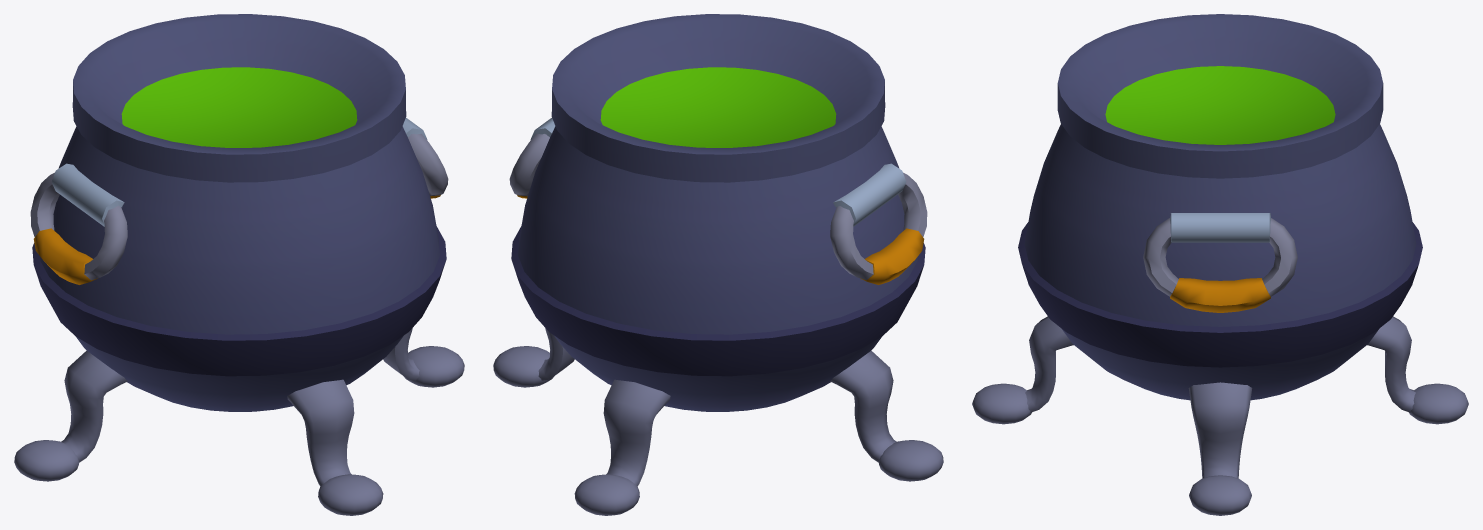
File: Cauldron_01.glb
The picture shows the model from 3 angles, left to right: view 1: azimuth 30°, elevation 25°; view 2: azimuth 150°, elevation 25°; view 3: azimuth 270°, elevation 25°; orthographic projection. The views are drawn at different scales.
Visible parts, largest first — view 1: Cauldron_01; view 2: Cauldron_01; view 3: Cauldron_01.
Boxes of the visible parts, box(x1,y1,x2,y2) form: Cauldron_01: box(14, 14, 464, 515); Cauldron_01: box(493, 14, 943, 515); Cauldron_01: box(972, 14, 1468, 515).
Bounding box in the file's own units: 1.01 × 0.757 × 1.01.
1 material, 1 textured.
